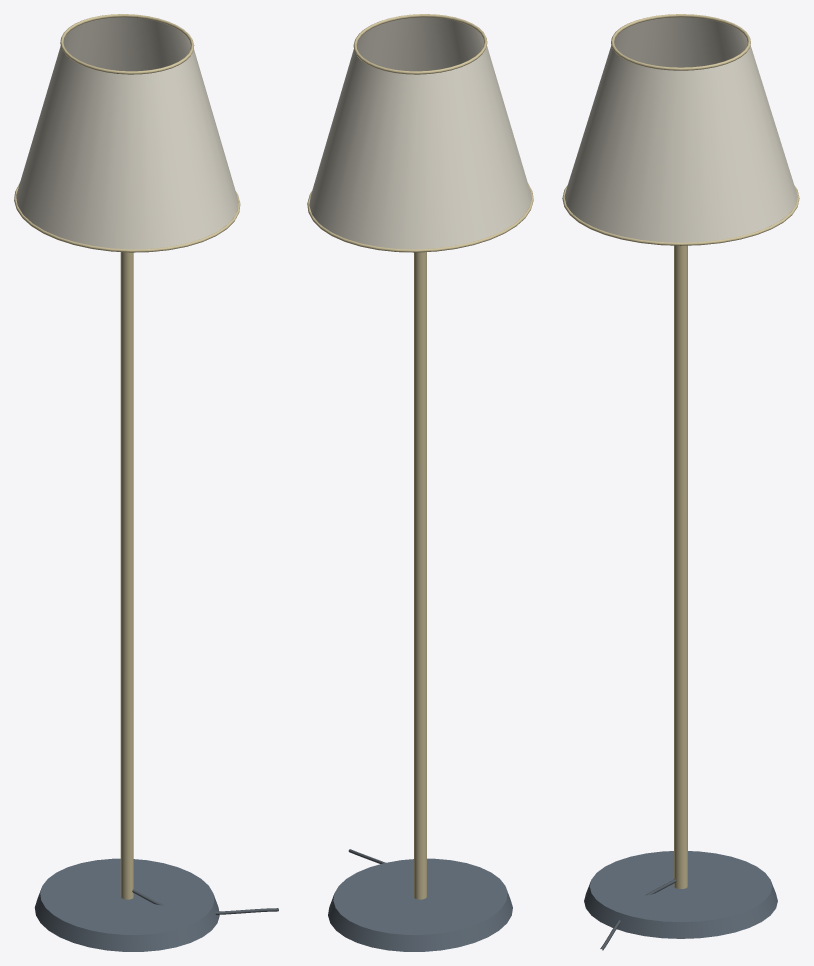
The model's file is floor-lamp.glb.
3 views of the same model, side by side, from view 1: azimuth 30°, elevation 25°; view 2: azimuth 150°, elevation 25°; view 3: azimuth 270°, elevation 25° (orthographic).
Visible parts, largest first — view 1: floor-lamp; view 2: floor-lamp; view 3: floor-lamp.
Boxes of the visible parts, x1,y1,x2,y2 form: floor-lamp: (14,14,278,951); floor-lamp: (307,14,533,951); floor-lamp: (562,14,799,950).
Size of the model in its own units: 0.42 by 1.68 by 0.42.
